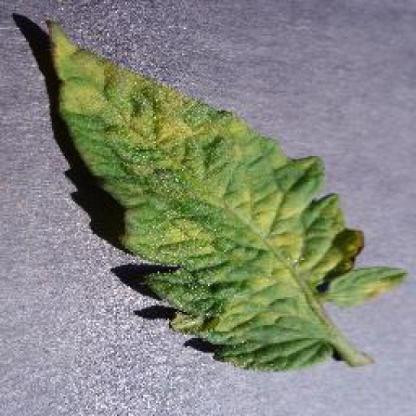Tomato_Leaf_Mold: (46, 18, 406, 363)
